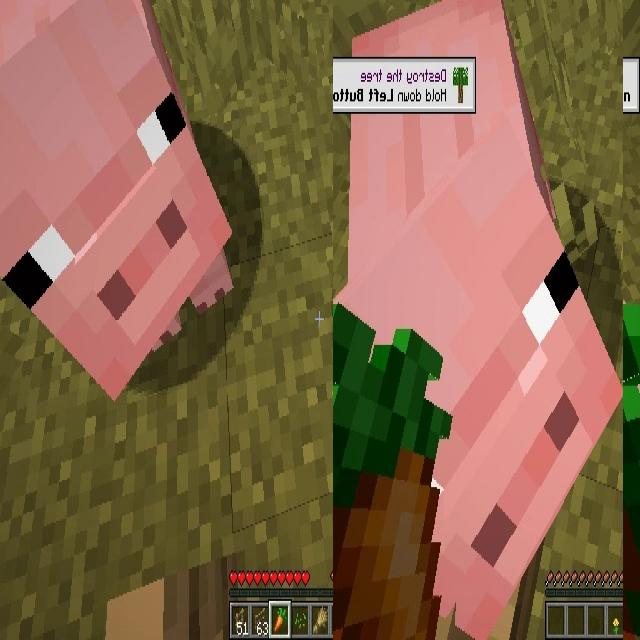pig: (333, 0, 623, 640), (0, 0, 241, 400)
